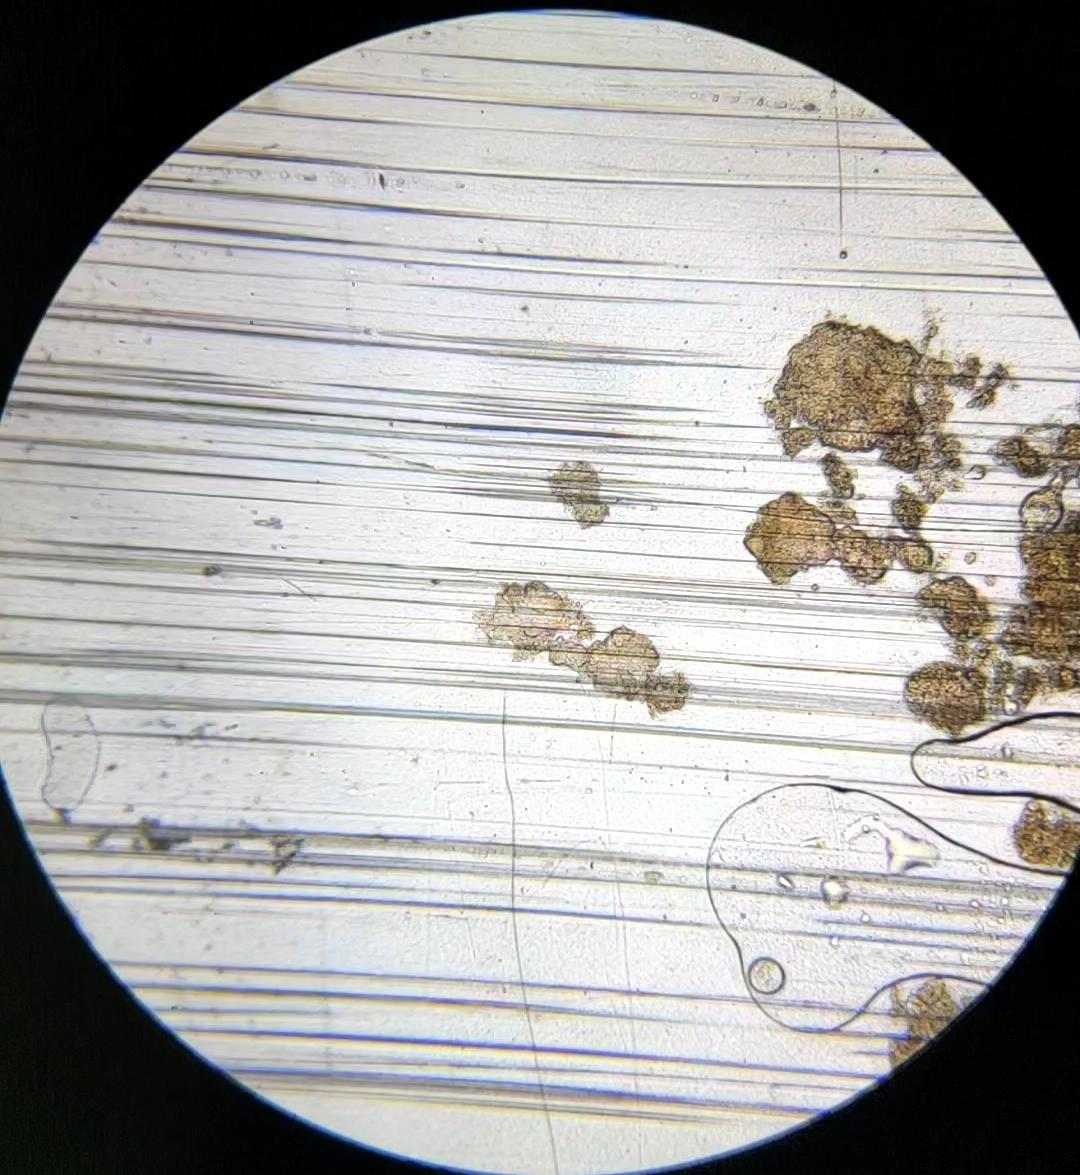Do: (1020, 464, 1071, 542)
